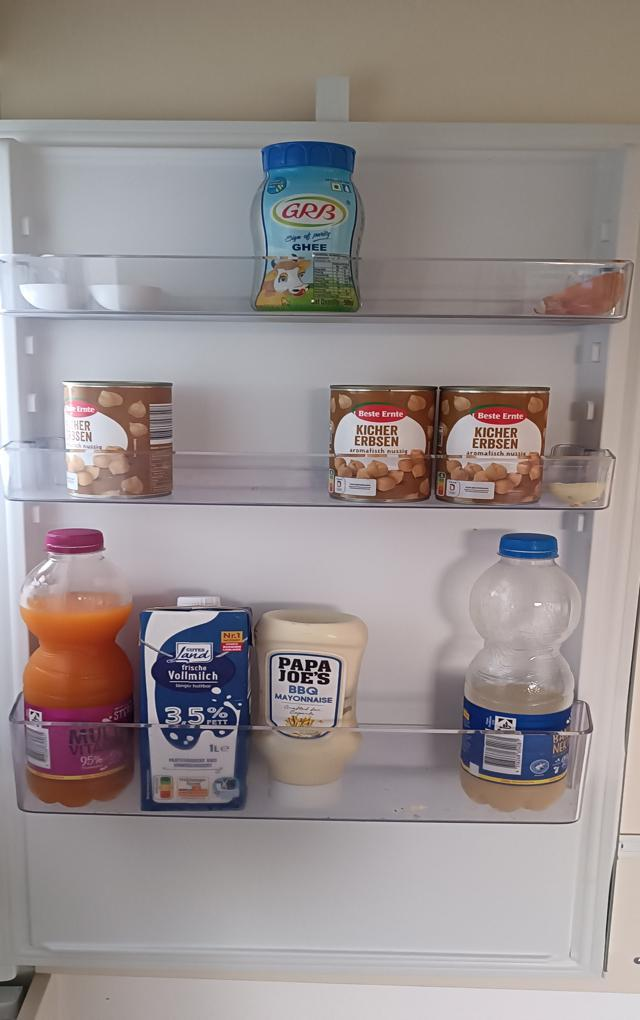bananajuice: (460, 533, 582, 812)
chickpeas: (61, 378, 173, 500), (331, 382, 435, 502), (439, 389, 546, 501)
ghee: (252, 140, 362, 317)
mayoniasie: (254, 611, 368, 806)
milk: (140, 598, 255, 814)
orangejuice: (20, 529, 139, 813)
